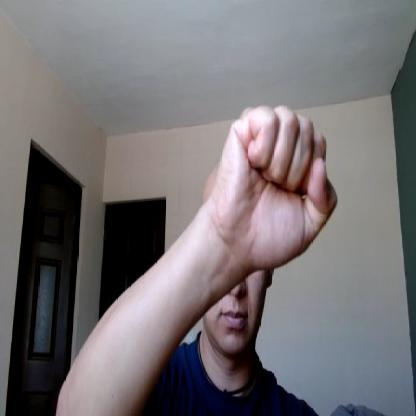S: (216, 106, 341, 274)
